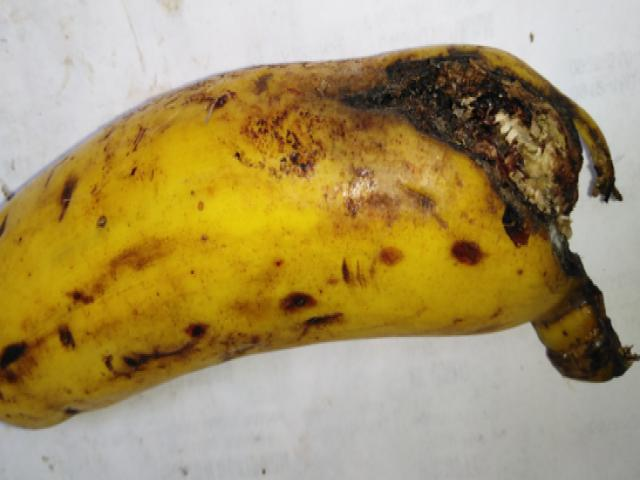ripe: (0, 49, 334, 433)
rotten: (254, 20, 636, 298)
